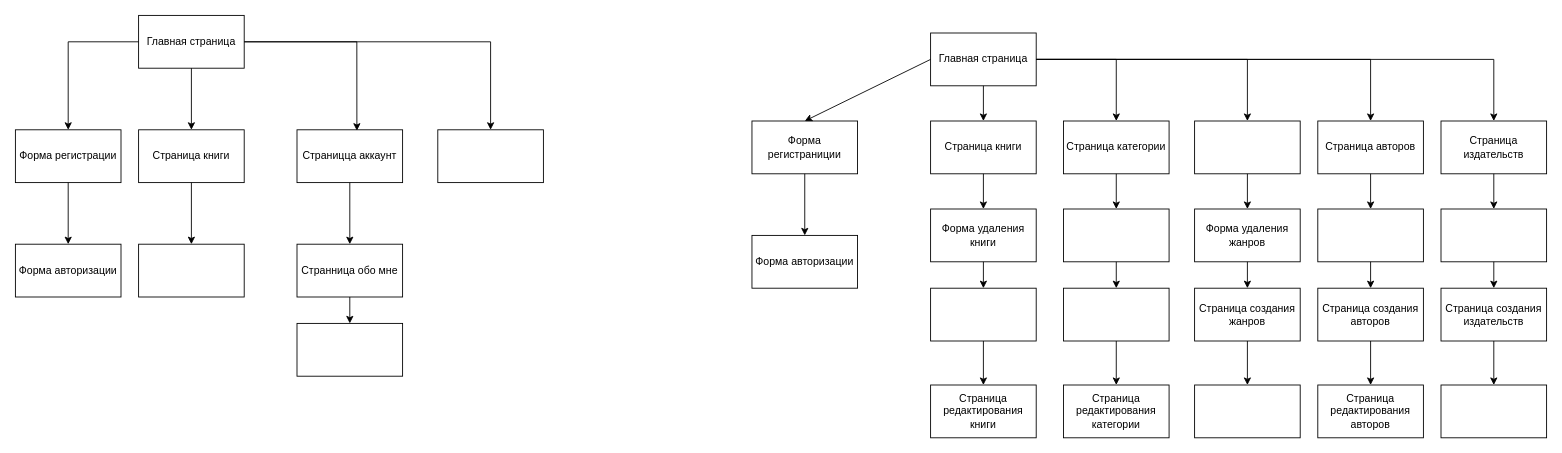
This 1562x453 diagram has some shape labels left out. The shapes that lost their labels are listed below. From the top down, each one's centre as x and y in pixels, then its label:
point (490, 156): Страница подписки
point (1247, 147): Страница жанров
point (1116, 235): Форма удаления категории
point (1370, 235): Форма удаления авторов
point (1493, 235): Форма удаления издательств
point (191, 270): Страница чтения книги
point (983, 314): Страница создания книги
point (1116, 314): Страница создания категории
point (349, 349): Странница закладки
point (1247, 411): Страница редактирования жанров
point (1493, 411): Страница редактирования издательств
